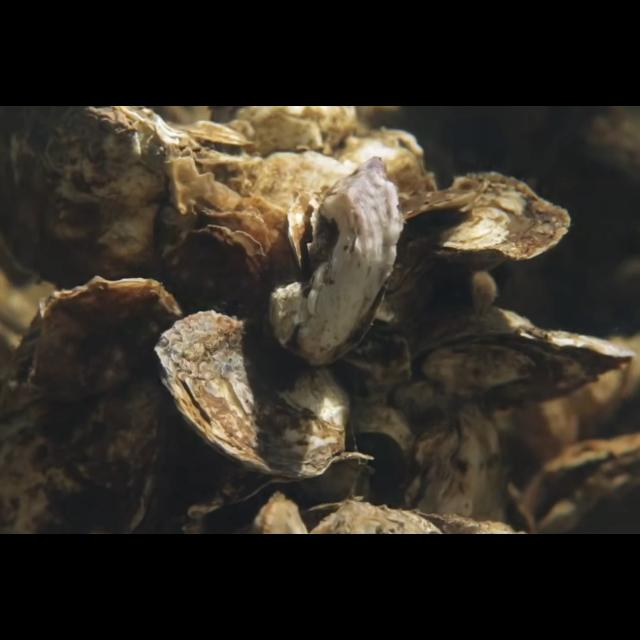Oyster-Closed: (0, 276, 184, 534), (153, 310, 353, 480), (268, 156, 404, 367), (410, 305, 640, 411), (386, 172, 570, 298), (396, 402, 510, 534)
Oyster-Indeterminate: (0, 106, 220, 286), (157, 225, 270, 327)
Oyster-Open: (188, 453, 374, 535), (525, 437, 640, 535)
